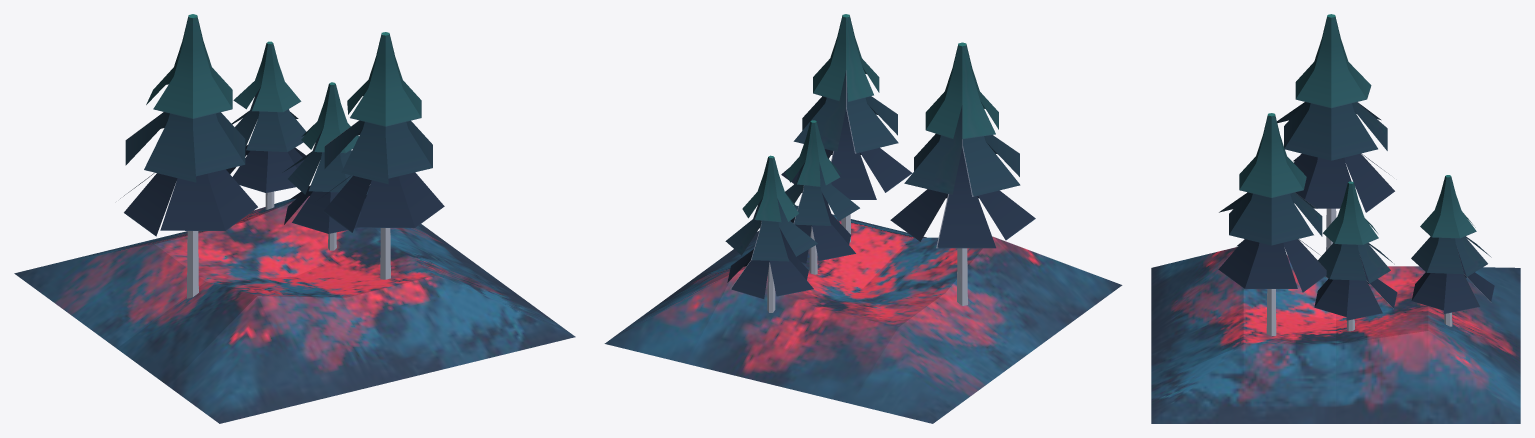
File: tree03.FBX
3 views of the same model, side by side, from view 1: azimuth 30°, elevation 25°; view 2: azimuth 150°, elevation 25°; view 3: azimuth 270°, elevation 25° (orthographic). The views are drawn at different scales.
Visible parts, largest first — view 1: Tree03; view 2: Tree03; view 3: Tree03.
Part boxes in pixels (left/top/right/bottom): Tree03: left=14, top=14, right=575, bottom=423; Tree03: left=604, top=14, right=1122, bottom=423; Tree03: left=1151, top=14, right=1520, bottom=423.
Bounding box in the file's own units: 1 × 1 × 0.8492.
1 material, 1 textured.
